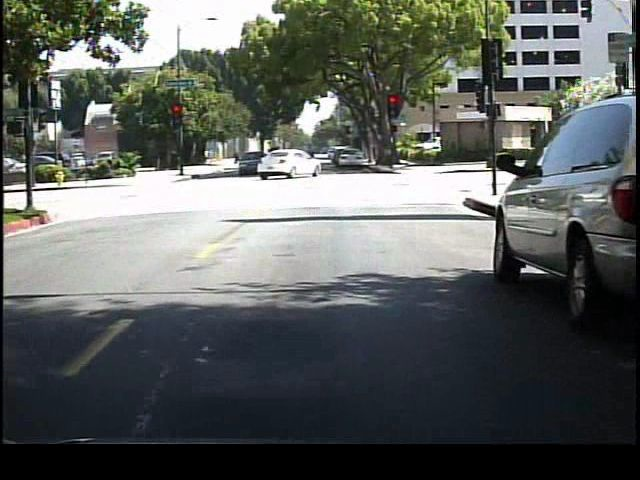person: (302, 142, 318, 177)
